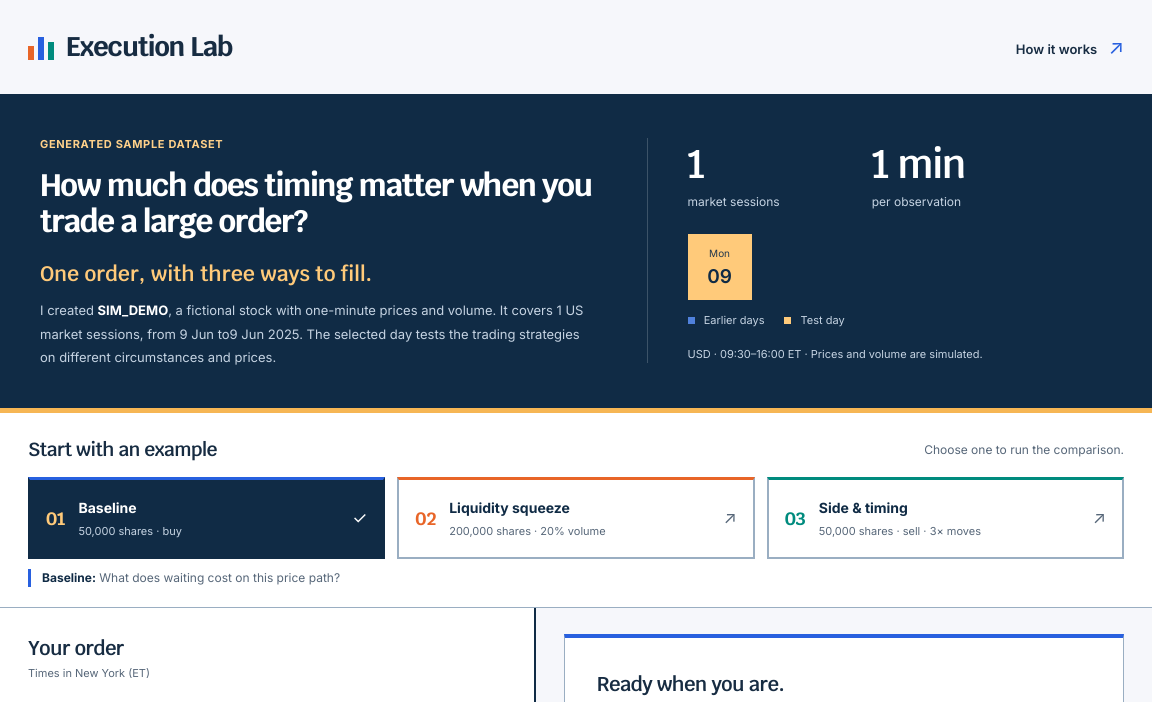
Scenario: guided liquidity case submits its new values rather than old state
This screenshot has width=1152, height=702.
What coordinates should you click on to do the following:
click the button "02 Liquidity squeeze 200,000 shares · 20% volume ↗"
I would click on:
 (510, 508)
Its box is [397,477,755,559].
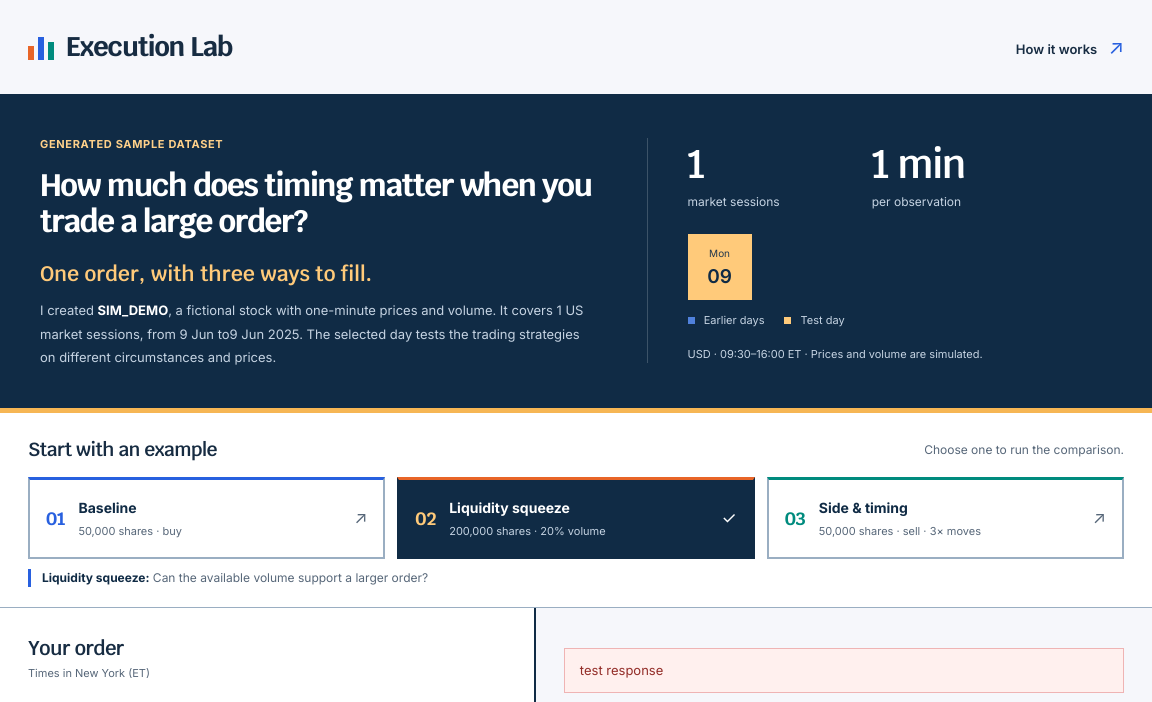
Check: the message "test response" is shown, box [564,648,1124,692]
